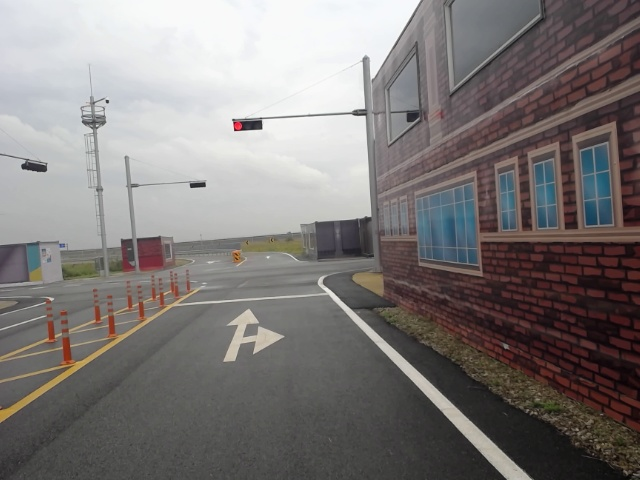red_3: (233, 119, 262, 131)
